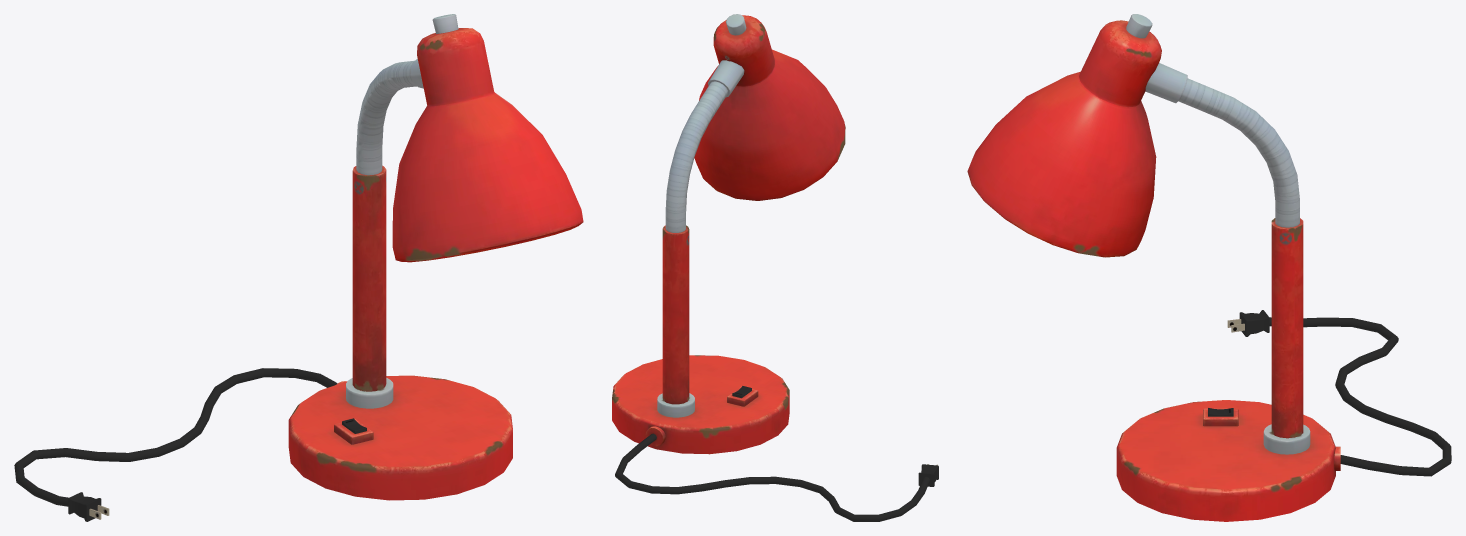
Rendered from desk-lamp.glb.
The picture shows the model from 3 angles, left to right: view 1: azimuth 30°, elevation 25°; view 2: azimuth 150°, elevation 25°; view 3: azimuth 270°, elevation 25°; orthographic projection. The views are drawn at different scales.
Visible parts, largest first — view 1: DeskLamp_LP_lambert1_0; view 2: DeskLamp_LP_lambert1_0; view 3: DeskLamp_LP_lambert1_0.
Part boxes in pixels (x1=…): DeskLamp_LP_lambert1_0: x1=14, y1=14, x2=583, y2=521; DeskLamp_LP_lambert1_0: x1=612, y1=14, x2=938, y2=521; DeskLamp_LP_lambert1_0: x1=967, y1=14, x2=1451, y2=521.
Bounding box in the file's own units: 0.0799 × 0.0863 × 0.0823.
Materials: 1 (1 with a texture image).
